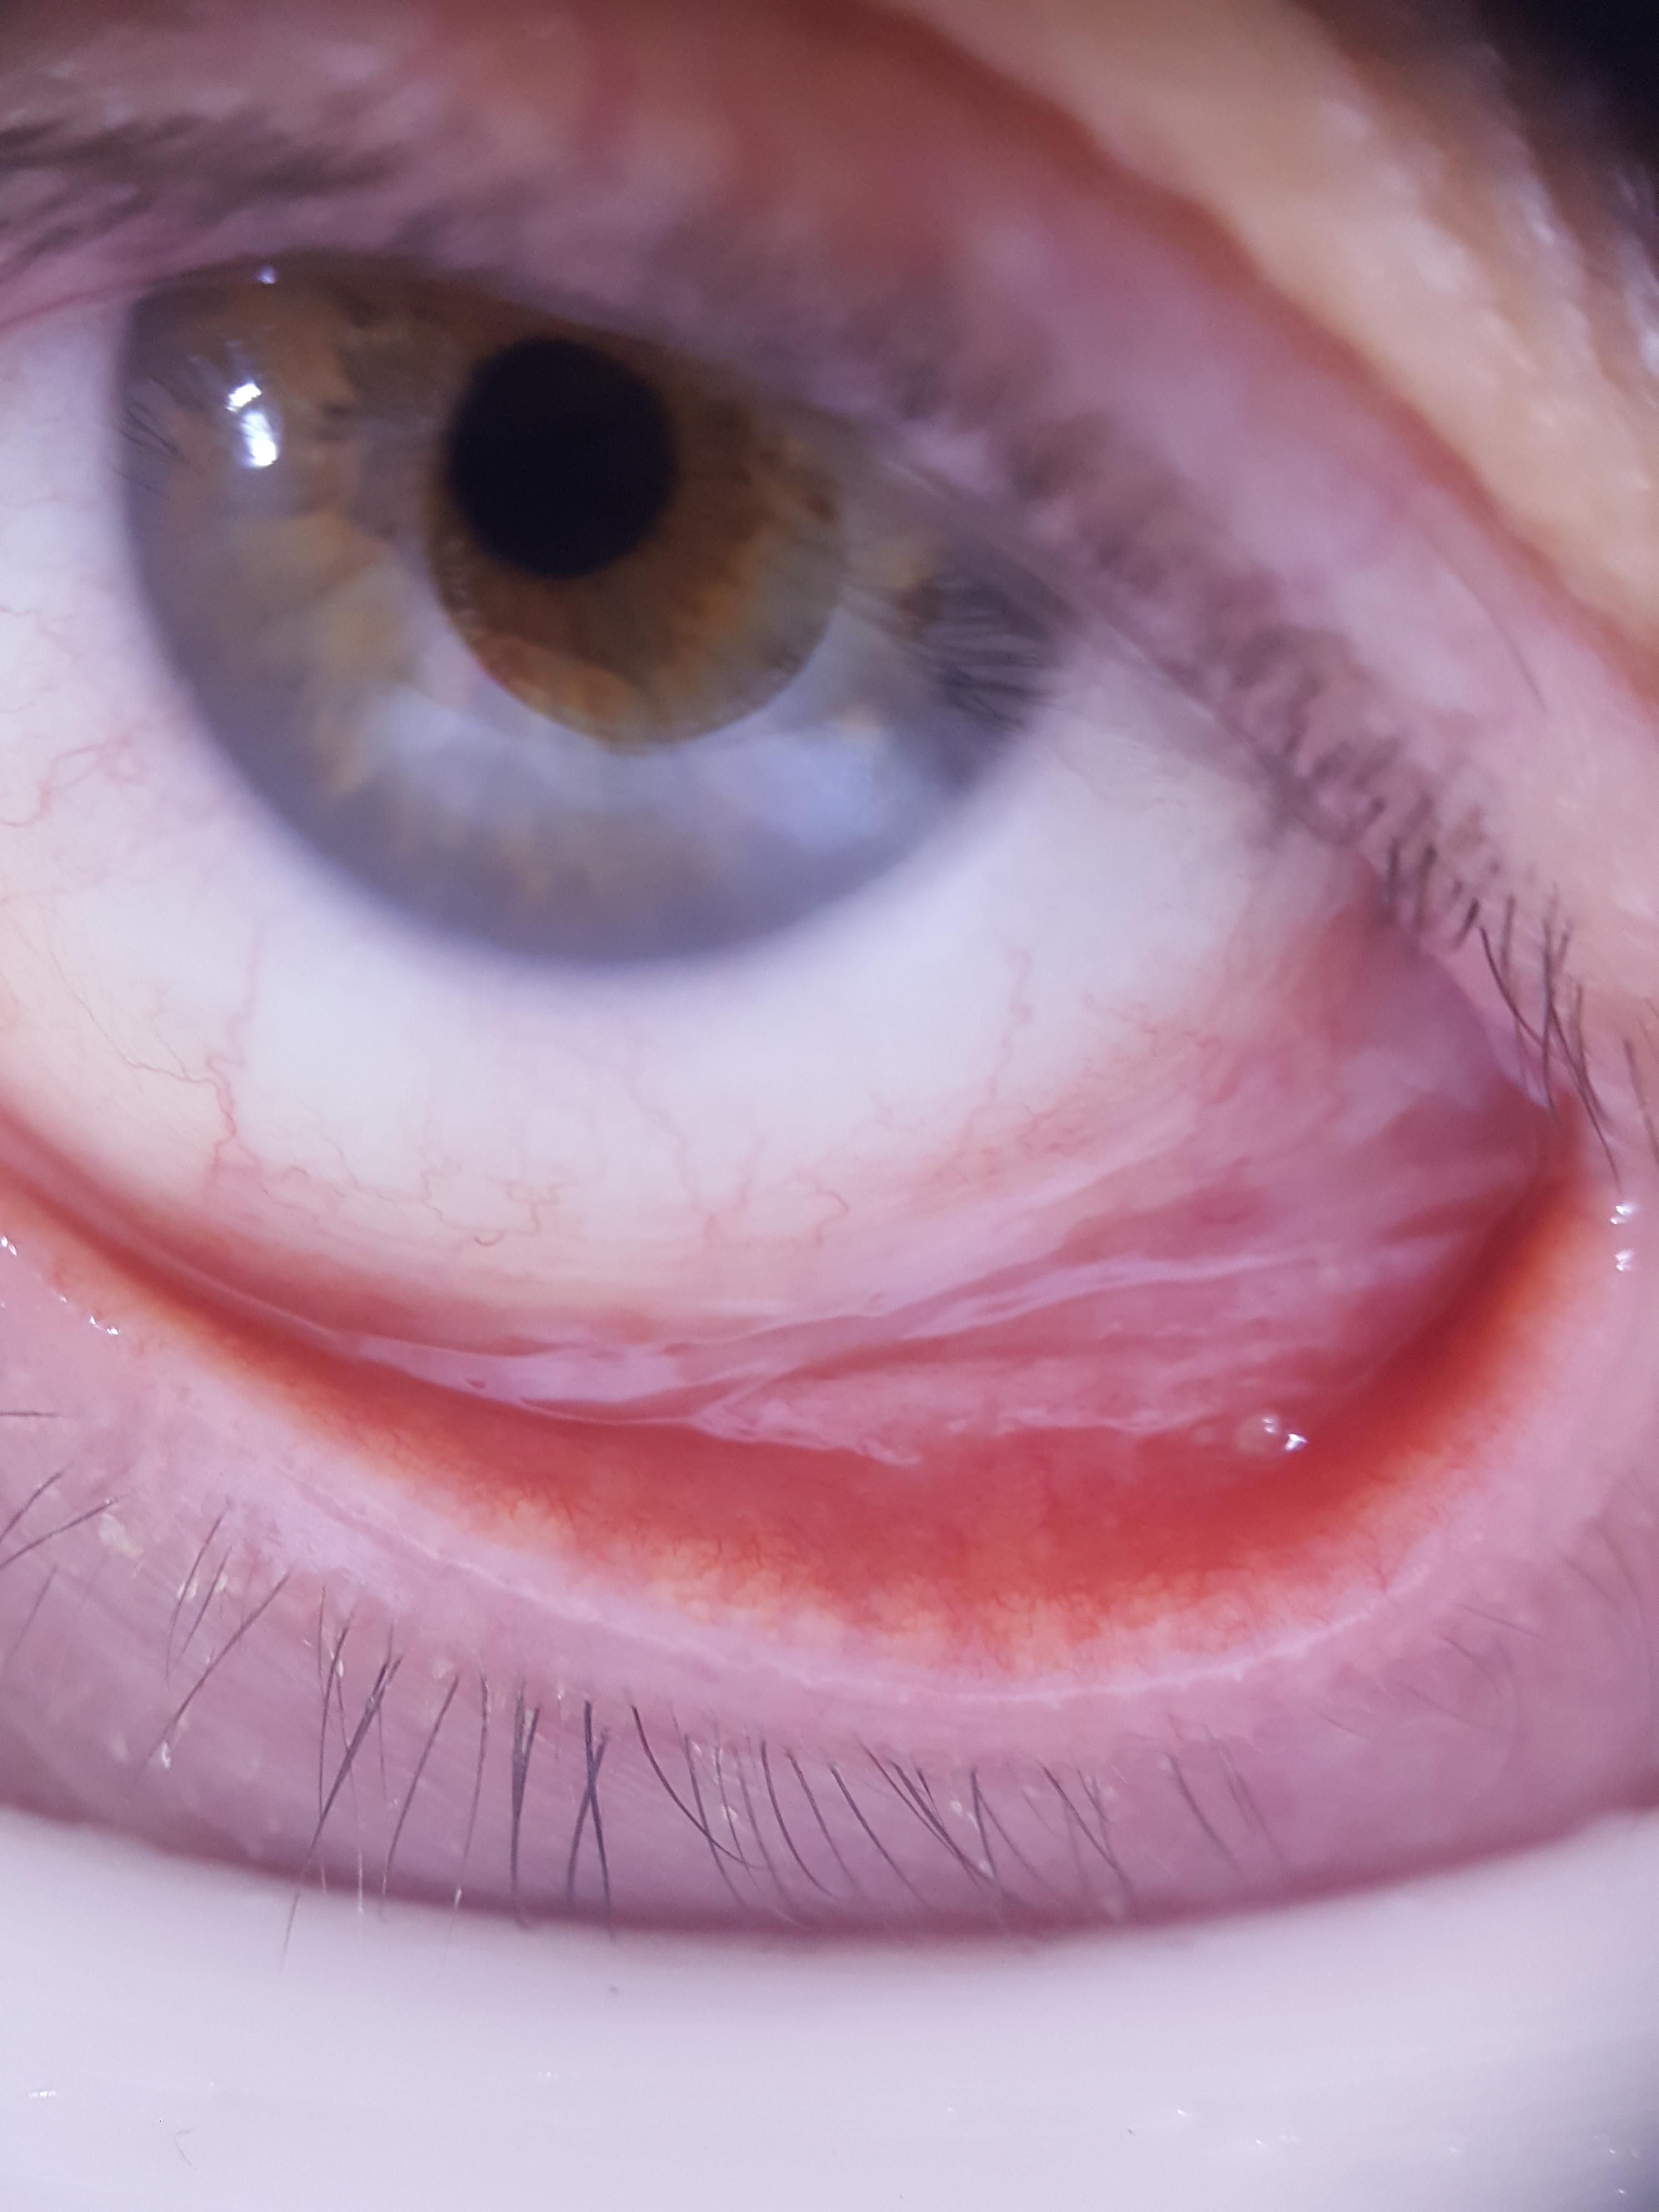forniceal: (0, 897, 1540, 1463)
forniceal_palpebral: (0, 890, 1565, 1606)
palpebral: (0, 1134, 1560, 1602)
